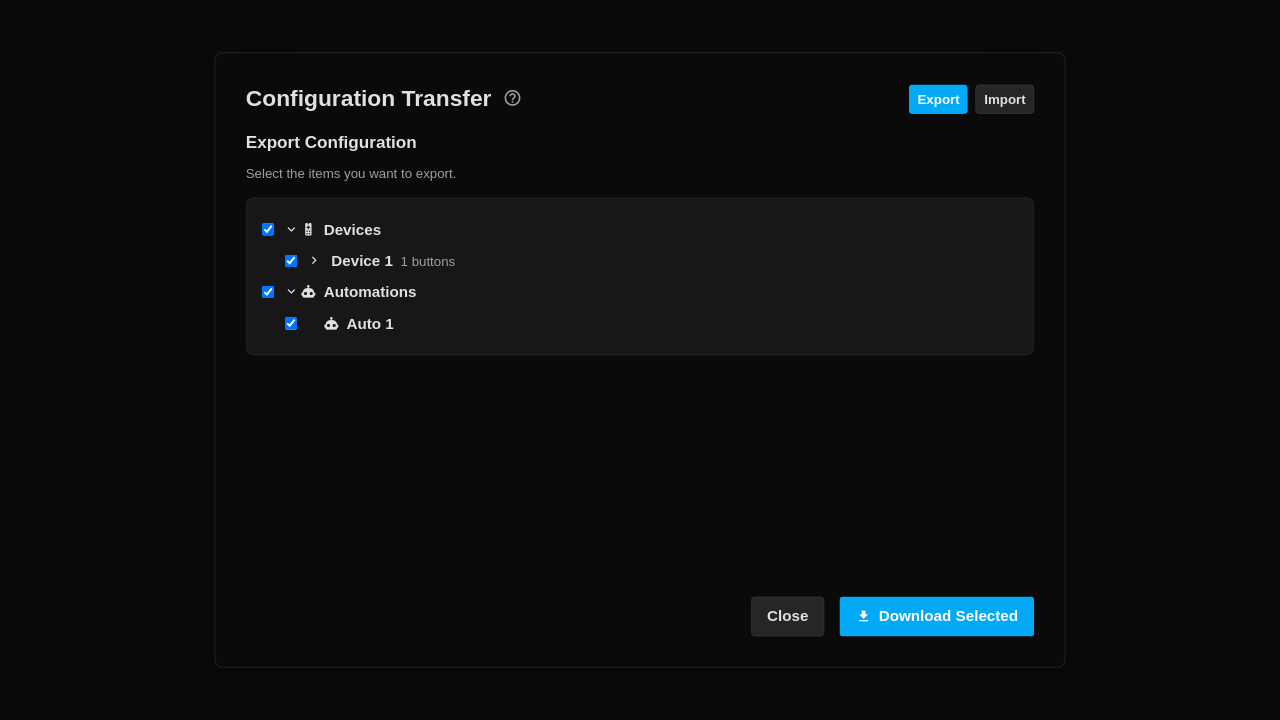
it: ConfigTransferModal Component › switches between export and import modes
The image size is (1280, 720).
Switch to import
Step 1. Click the button "Import" → (1005, 99), box [976, 84, 1034, 113]
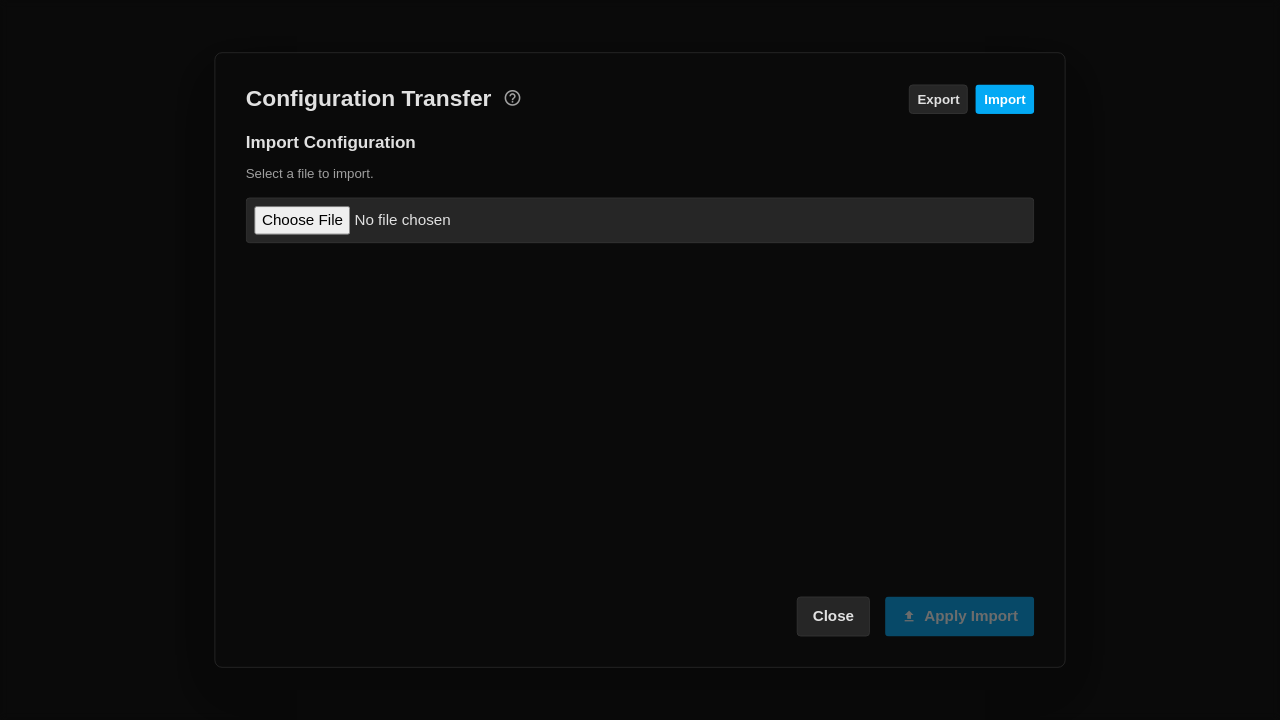
Now the text "Import Configuration" is shown, box [246, 133, 416, 152]
Now the file field is shown, box [246, 198, 1034, 243]
Switch back to export
Step 2. Click the button "Export" → (938, 99), box [909, 84, 968, 113]
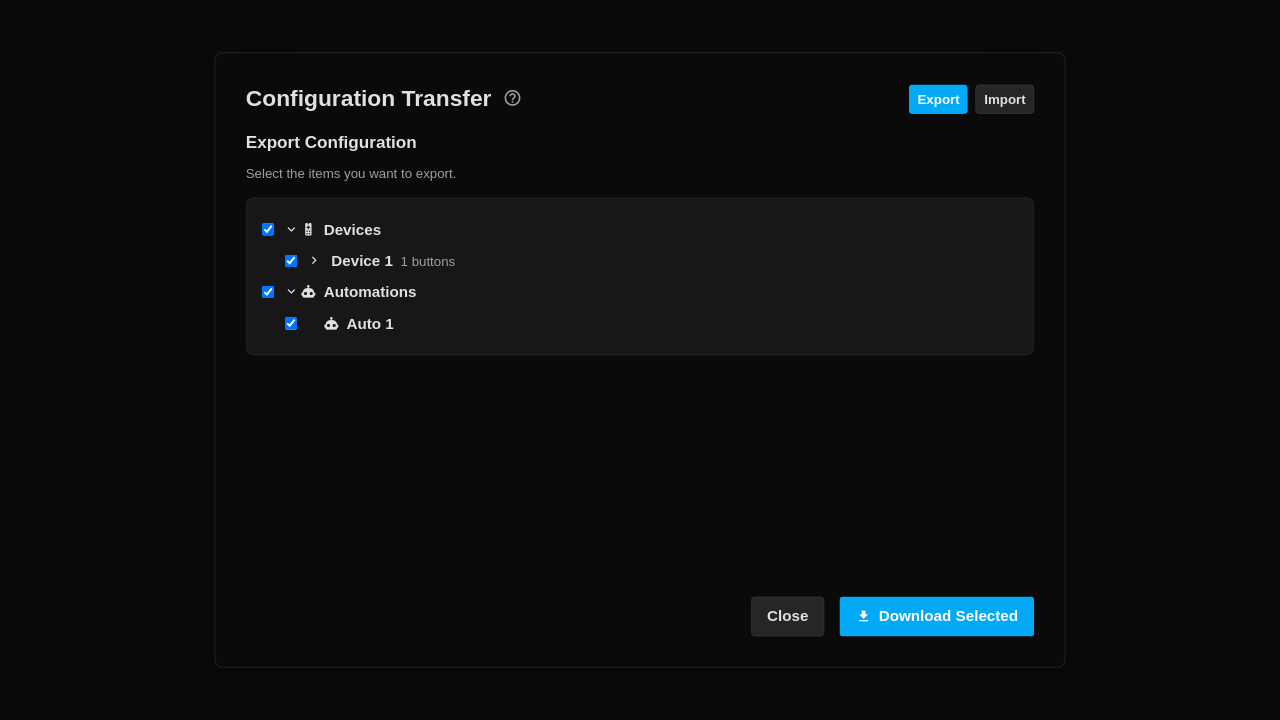
Now the text "Export Configuration" is shown, box [246, 133, 417, 152]
